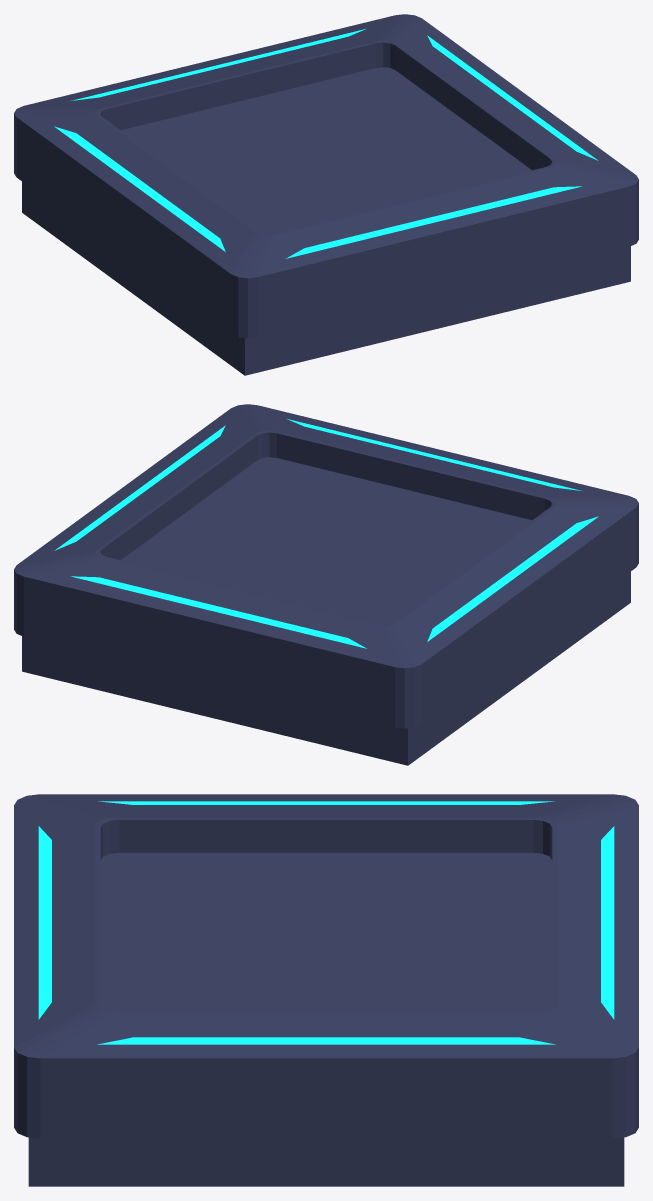
The model's file is BaseModuleBouton.fbx.
3 views of the same model, one above another, from view 1: azimuth 30°, elevation 25°; view 2: azimuth 150°, elevation 25°; view 3: azimuth 270°, elevation 25° (orthographic). The views are drawn at different scales.
Visible parts, largest first — view 1: BaseModuleBouton; view 2: BaseModuleBouton; view 3: BaseModuleBouton.
Boxes of the visible parts, x1=… form: BaseModuleBouton: x1=14, y1=14, x2=638, y2=375; BaseModuleBouton: x1=14, y1=404, x2=638, y2=765; BaseModuleBouton: x1=14, y1=794, x2=638, y2=1186.
Size of the model in its own units: 23.74 by 6.11 by 23.74.
